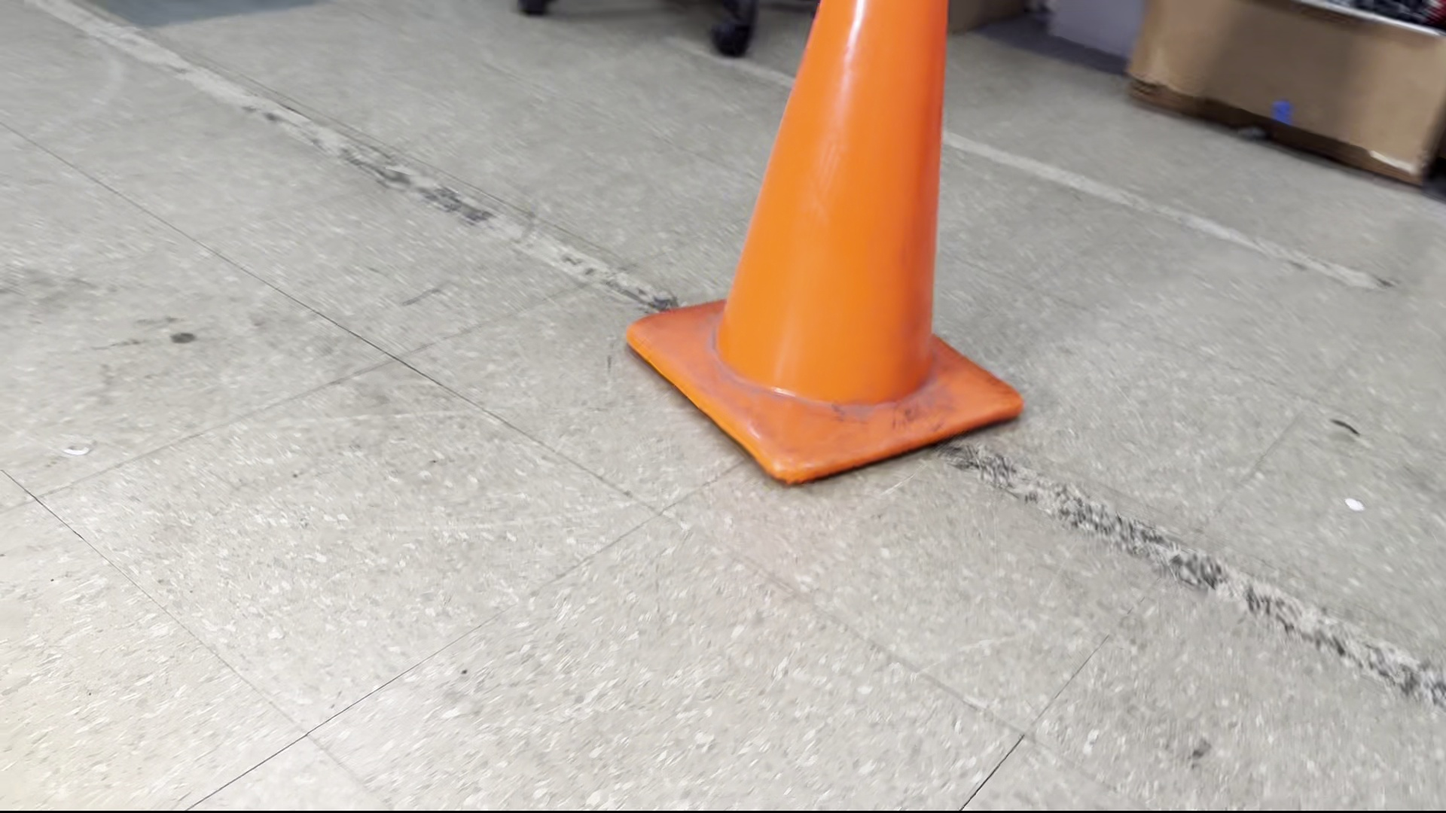traffic_cone: (625, 0, 1025, 486)
